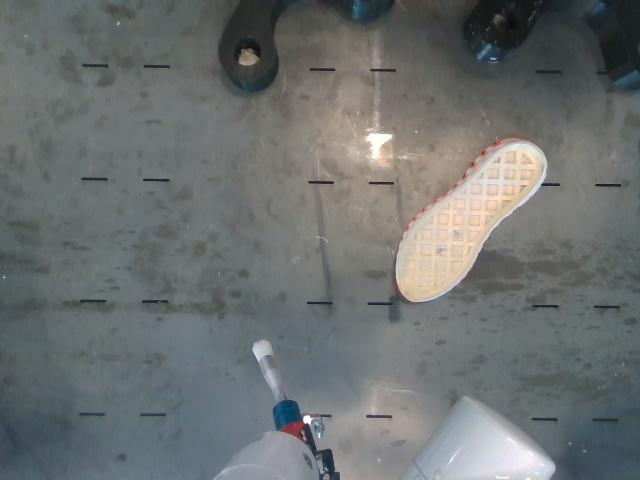shoes: (396, 143, 545, 302)
